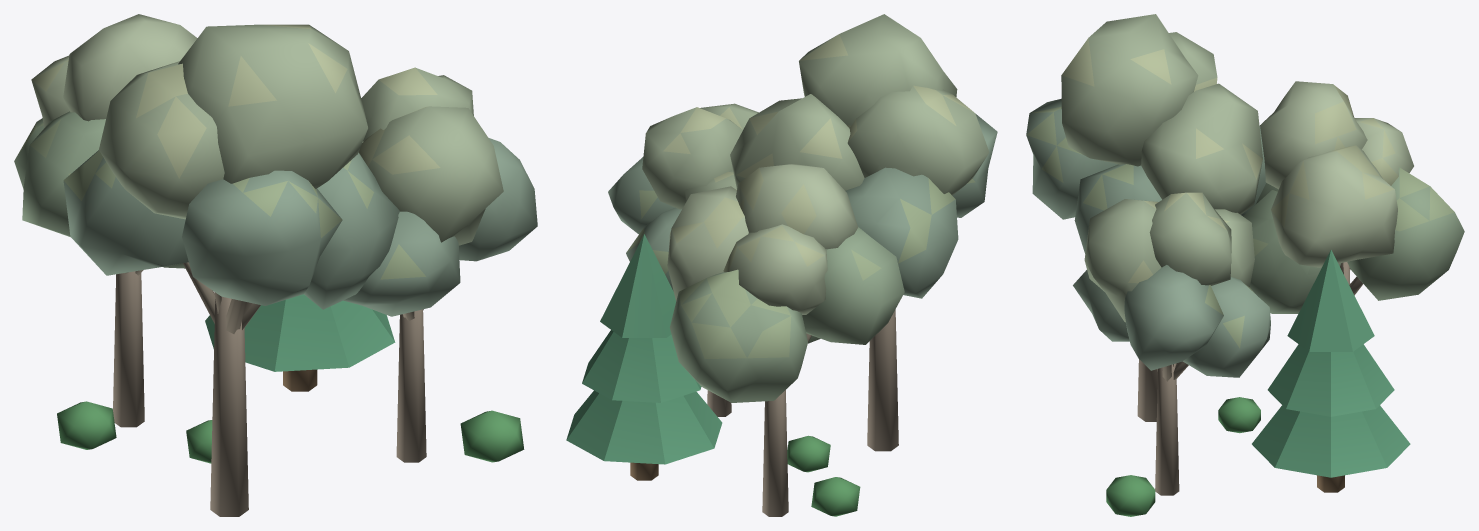
File: terrain-forest-0.glb
The picture shows the model from 3 angles, left to right: view 1: azimuth 30°, elevation 25°; view 2: azimuth 150°, elevation 25°; view 3: azimuth 270°, elevation 25°; orthographic projection. The views are drawn at different scales.
Visible parts, largest first — view 1: terrain-forest-0; view 2: terrain-forest-0; view 3: terrain-forest-0.
Boxes of the visible parts, x1,y1,x2,y2 form: terrain-forest-0: (14, 14, 537, 516); terrain-forest-0: (566, 14, 997, 516); terrain-forest-0: (1026, 14, 1464, 516).
Size of the model in its own units: 0.8629 by 0.9341 by 0.9368.
